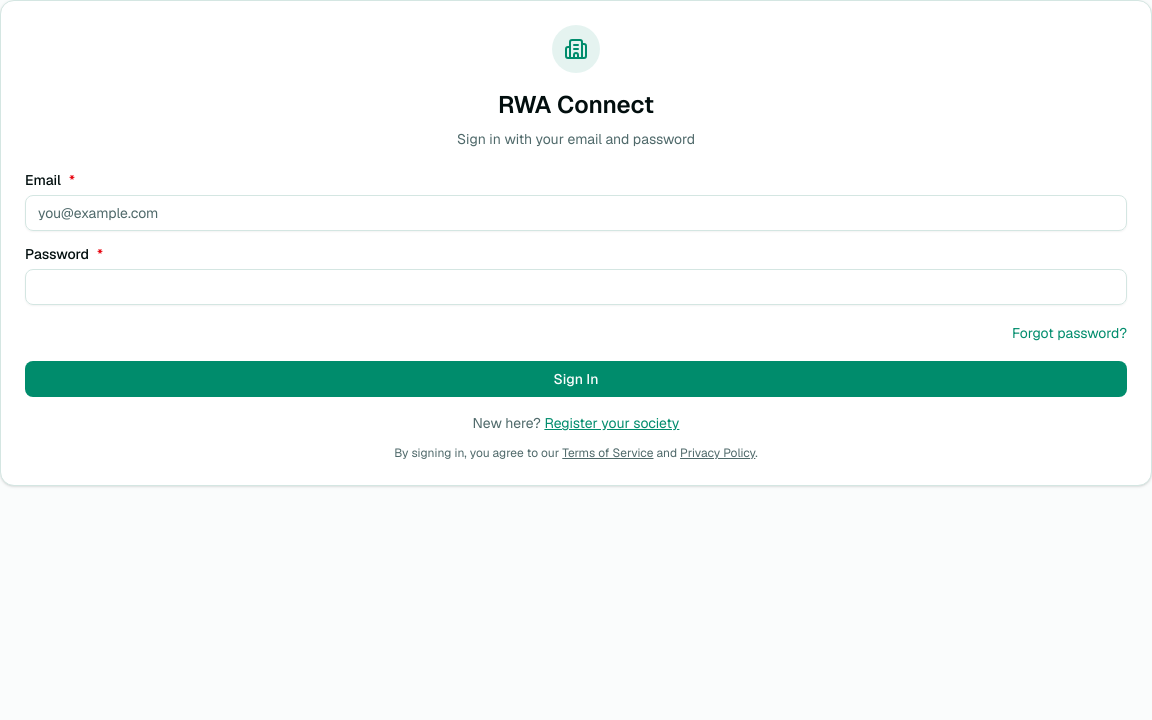
Test case: LoginPage › shows validation errors on empty submit
Click the button "Sign In".
click(576, 379)  # box x1=25 y1=361 x2=1127 y2=397
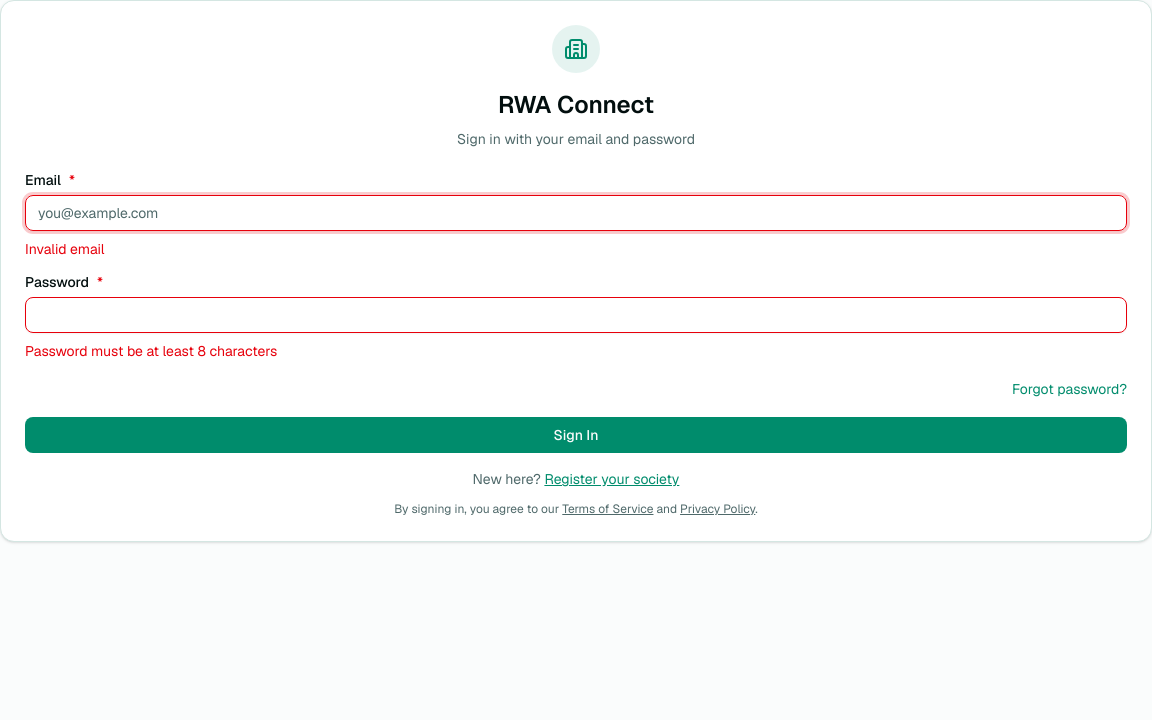
Expected: the text "Invalid email" is shown, x1=25 y1=240 x2=104 y2=258
Expected: the text "Password must be at least 8 characters" is shown, x1=25 y1=342 x2=277 y2=360
